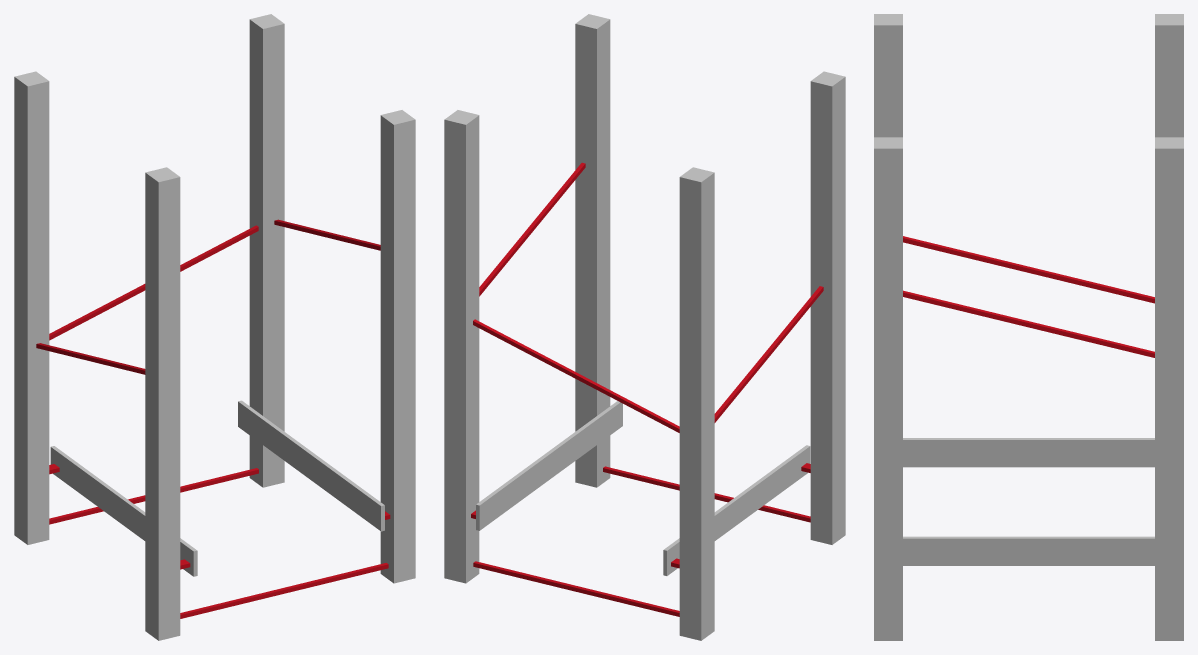
File: podjin.obj
3 renders of one model, left to right at view 1: azimuth 30°, elevation 25°; view 2: azimuth 150°, elevation 25°; view 3: azimuth 270°, elevation 25°, orthographic. The views are drawn at different scales.
Visible parts, largest first — view 1: Cube.002_Cube.004, Cube.003_Cube.007, Cube.001_Cube.006, Cube.004_Cube.008, Cube.005_Cube.018, Cube.015_Cube.028, Cube.007_Cube.020, Cube.008_Cube.021, Cube.006_Cube.019, Cube.009_Cube.022, Cube.010_Cube.023; view 2: Cube.003_Cube.007, Cube.002_Cube.004, Cube.004_Cube.008, Cube.001_Cube.006, Cube.005_Cube.018, Cube.015_Cube.028, Cube.008_Cube.021, Cube.006_Cube.019, Cube.009_Cube.022, Cube.010_Cube.023, Cube.007_Cube.020; view 3: Cube.001_Cube.006, Cube.004_Cube.008, Cube.005_Cube.018, Cube.015_Cube.028, Cube.002_Cube.004, Cube.003_Cube.007, Cube.009_Cube.022, Cube.010_Cube.023.
Part boxes in pixels (x1,y1,x2,y2): Cube.002_Cube.004: (145,167,180,640); Cube.003_Cube.007: (14,71,49,544); Cube.001_Cube.006: (380,110,415,583); Cube.004_Cube.008: (249,14,284,487); Cube.005_Cube.018: (238,400,384,531); Cube.015_Cube.028: (50,446,197,576); Cube.007_Cube.020: (180,563,388,618); Cube.008_Cube.021: (49,225,258,340); Cube.006_Cube.019: (49,468,258,524); Cube.009_Cube.022: (36,343,145,374); Cube.010_Cube.023: (274,219,380,250); Cube.003_Cube.007: (679,167,714,640); Cube.002_Cube.004: (810,71,845,544); Cube.004_Cube.008: (444,110,479,583); Cube.001_Cube.006: (575,14,610,487); Cube.005_Cube.018: (476,401,622,530); Cube.015_Cube.028: (663,445,810,575); Cube.008_Cube.021: (473,319,679,432); Cube.006_Cube.019: (473,561,679,616); Cube.009_Cube.022: (714,286,823,422); Cube.010_Cube.023: (479,162,585,296); Cube.007_Cube.020: (603,466,810,522); Cube.001_Cube.006: (874,137,902,640); Cube.004_Cube.008: (1155,137,1183,640); Cube.005_Cube.018: (903,536,1154,565); Cube.015_Cube.028: (903,438,1154,467); Cube.002_Cube.004: (874,14,902,137); Cube.003_Cube.007: (1155,14,1183,137); Cube.009_Cube.022: (903,236,1154,303); Cube.010_Cube.023: (903,290,1154,357).
Size of the model in its own units: 136 by 232 by 132.
